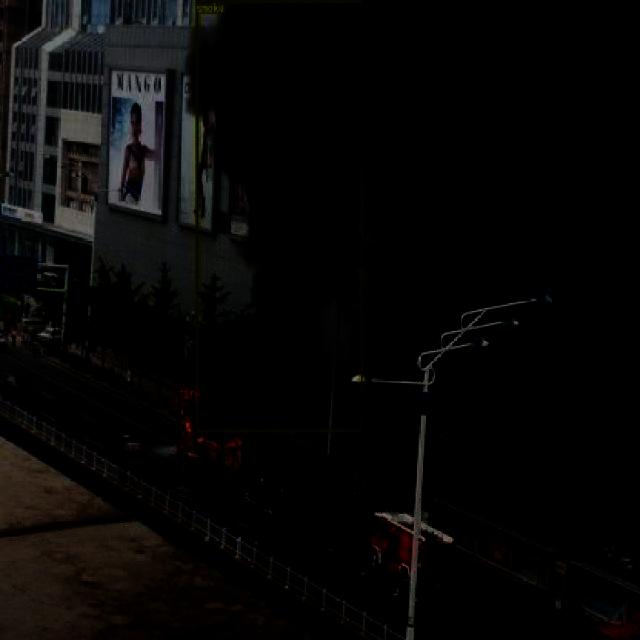fire: (176, 398, 247, 473)
smoke: (195, 0, 361, 432)
